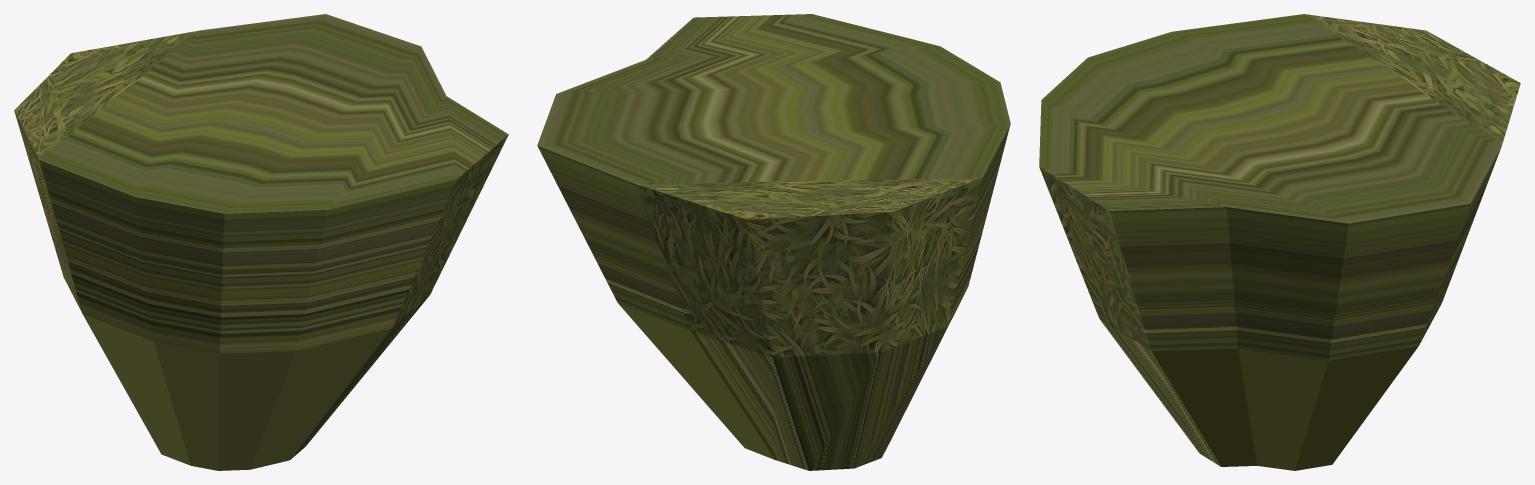
The model's file is platform05_coll.fbx.
3 renders of one model, left to right at view 1: azimuth 30°, elevation 25°; view 2: azimuth 150°, elevation 25°; view 3: azimuth 270°, elevation 25°, orthographic. The views are drawn at different scales.
Visible parts, largest first — view 1: platform05_collision.001; view 2: platform05_collision.001; view 3: platform05_collision.001.
Boxes of the visible parts, bbox=[...] form: platform05_collision.001: bbox=[14, 14, 508, 470]; platform05_collision.001: bbox=[537, 14, 1010, 470]; platform05_collision.001: bbox=[1039, 14, 1520, 470].
Bounding box in the file's own units: 5.25 × 5.1 × 3.91.
